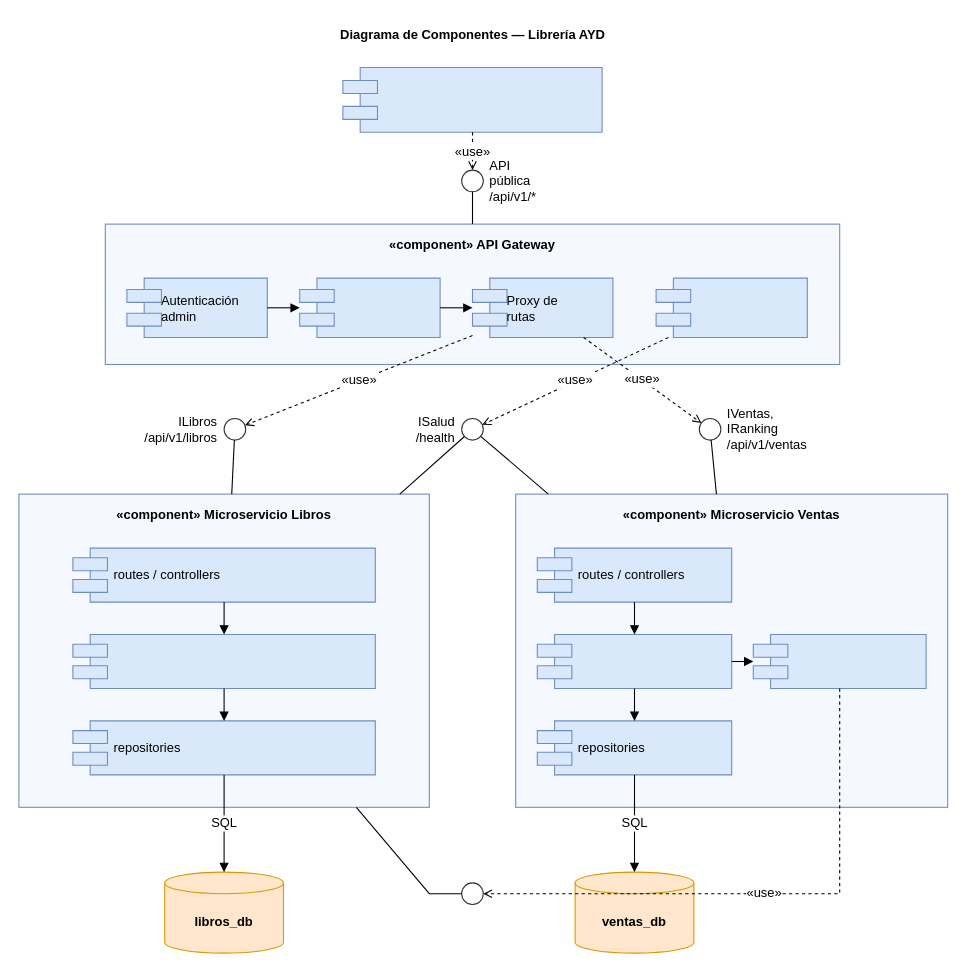
Image size: 967x972. Some labels were removed from this diagram. The centre of each missing label's shape, as x and y in pixels:
Agregador de salud: the point at 731,307
clients (cliente de Libros): the point at 839,660
IExistencias /internal/v1/libros: the point at 472,893
Límite de peticiones: the point at 369,307
services: the point at 223,660
services (saga, ranking): the point at 634,660
«component» Frontend (React + Nginx): the point at 472,99
